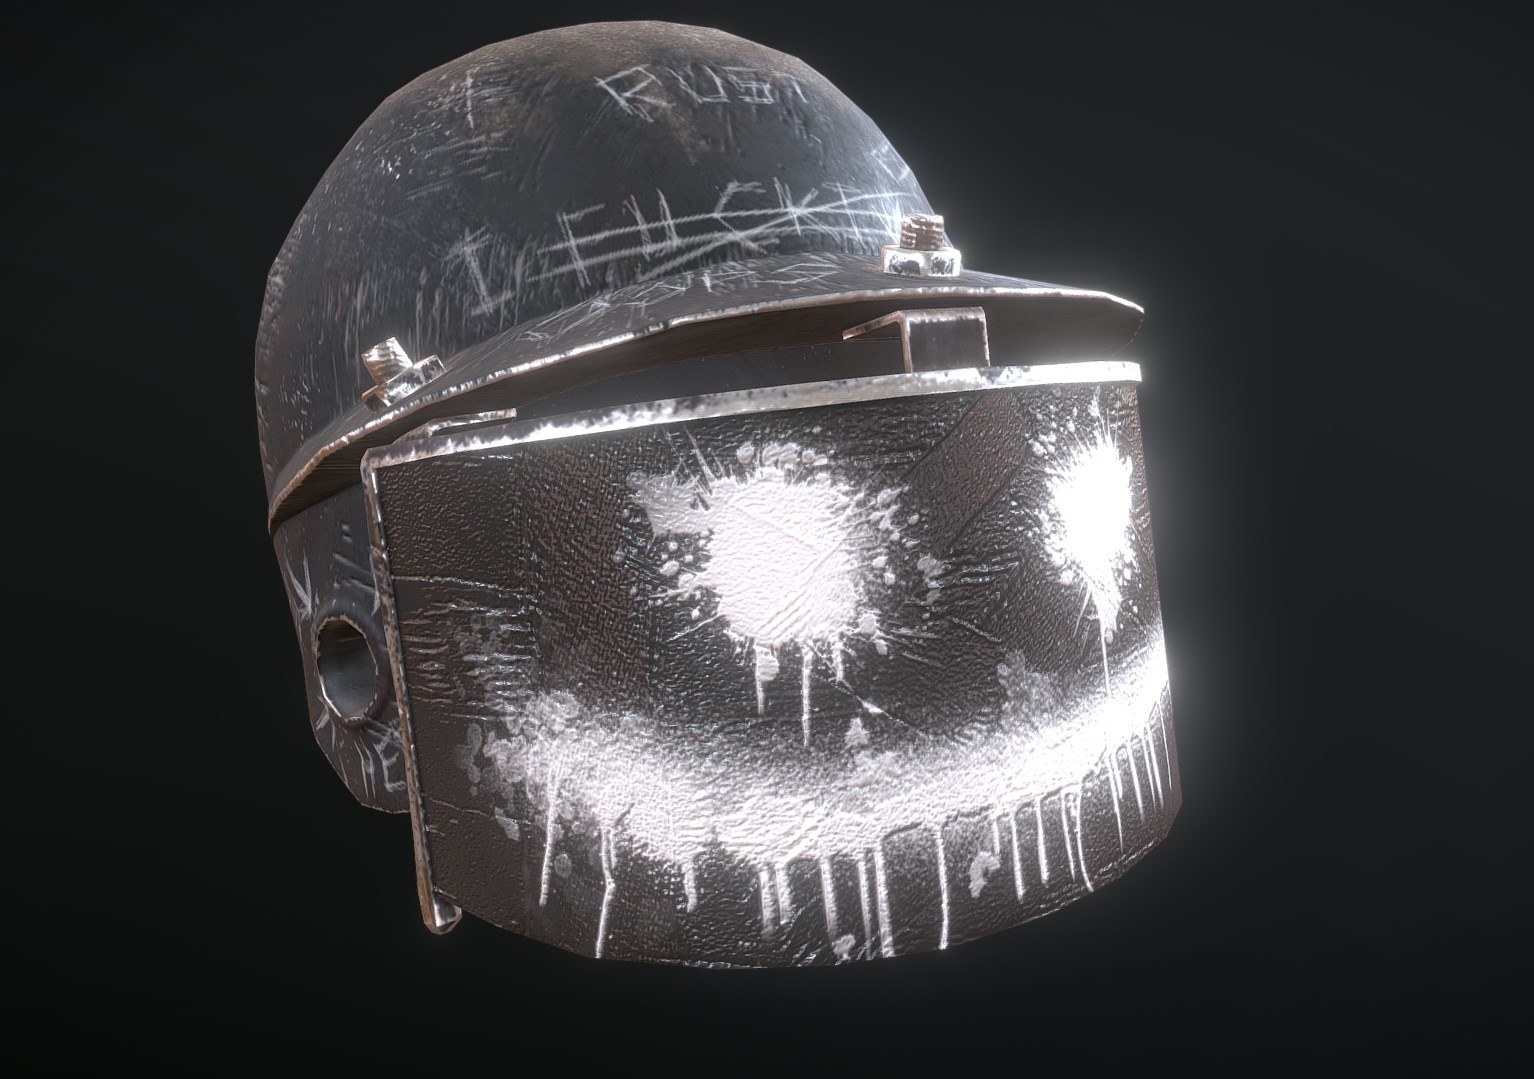helmet: (226, 22, 955, 293)
